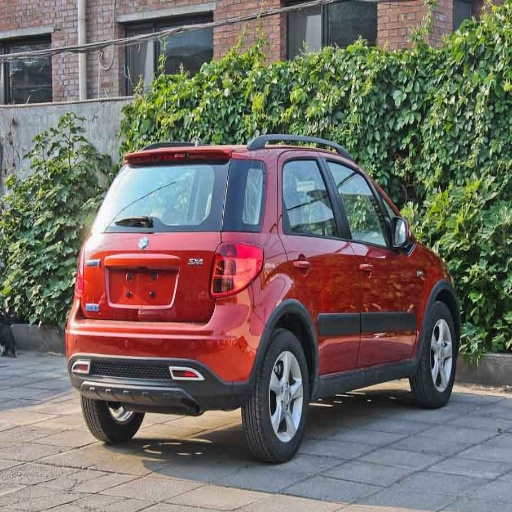back_bumper: (66, 289, 266, 406)
back_right_door: (275, 149, 364, 372)
trunk: (76, 235, 221, 330)
